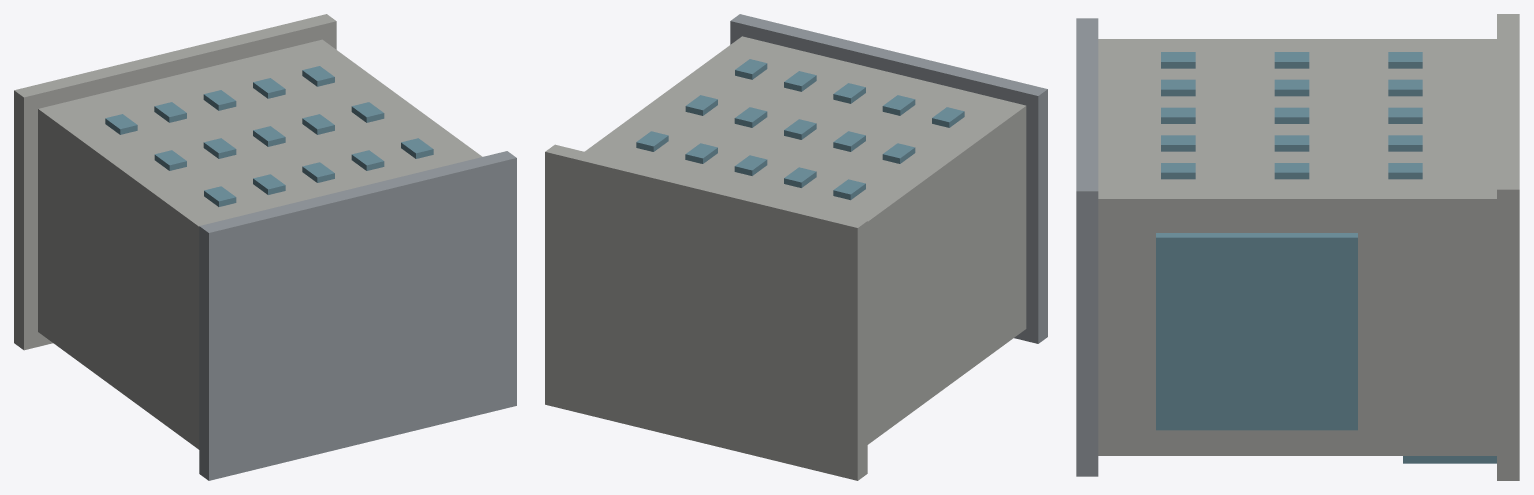
File: AGE_VII_commercial.glb
The picture shows the model from 3 angles, left to right: view 1: azimuth 30°, elevation 25°; view 2: azimuth 150°, elevation 25°; view 3: azimuth 270°, elevation 25°; orthographic projection. The views are drawn at different scales.
Parts seen in each view (by area): view 1: world; view 2: world; view 3: world.
Part boxes in pixels (bbox=[...]): world: bbox=[14, 14, 516, 480]; world: bbox=[545, 14, 1047, 480]; world: bbox=[1076, 14, 1519, 480].
Size of the model in its own units: 6.6 by 5.1 by 7.03.
